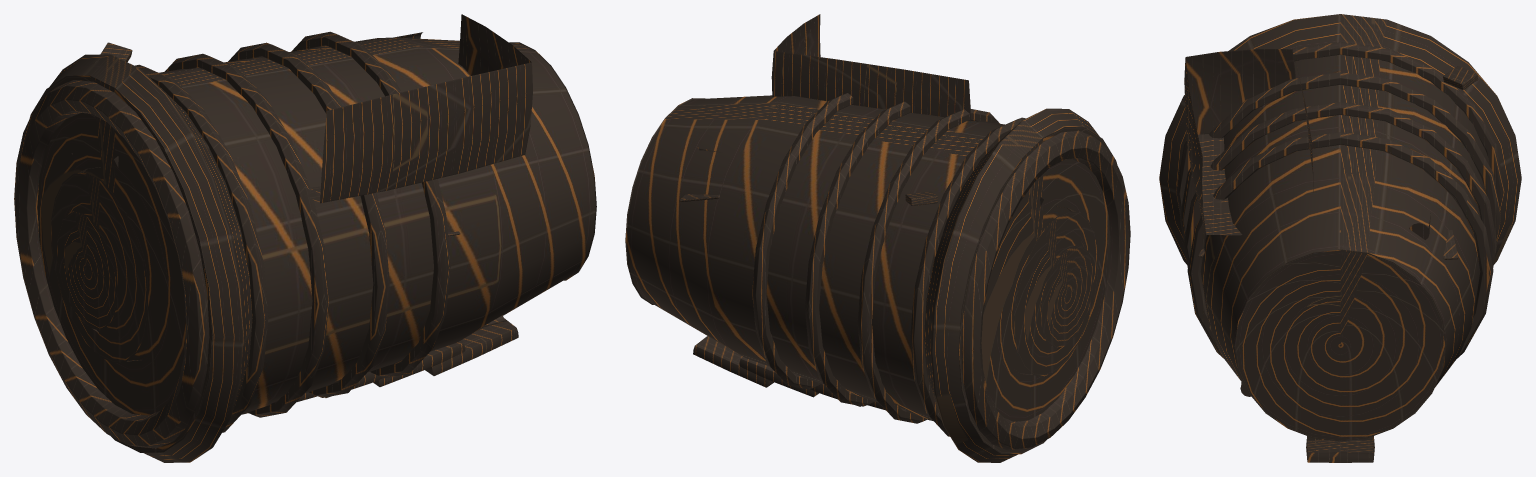
Rendered from engine_industrial.glb.
3 renders of one model, left to right at view 1: azimuth 30°, elevation 25°; view 2: azimuth 150°, elevation 25°; view 3: azimuth 270°, elevation 25°, orthographic. The views are drawn at different scales.
Visible parts, largest first — view 1: LOD0_ENGINE_INDUSTRIAL_MAIN, engine_industrial_Material_Mechanical_Merged, HOOK_DRIVE_CORE, HOOK_DRIVE_PLUME, engine_industrial_Material_Hull_Merged; view 2: LOD0_ENGINE_INDUSTRIAL_MAIN, engine_industrial_Material_Mechanical_Merged, HOOK_DRIVE_CORE, HOOK_DRIVE_PLUME, engine_industrial_Material_Hull_Merged; view 3: LOD0_ENGINE_INDUSTRIAL_MAIN, engine_industrial_Material_Mechanical_Merged, engine_industrial_Material_Hull_Merged, DET_cavity_grime_vent.
Boxes of the visible parts, left/top/right/bottom form: LOD0_ENGINE_INDUSTRIAL_MAIN: left=29, top=37, right=596, bottom=462; engine_industrial_Material_Mechanical_Merged: left=14, top=14, right=532, bottom=448; HOOK_DRIVE_CORE: left=51, top=167, right=147, bottom=362; HOOK_DRIVE_PLUME: left=57, top=207, right=116, bottom=332; engine_industrial_Material_Hull_Merged: left=242, top=319, right=518, bottom=414; LOD0_ENGINE_INDUSTRIAL_MAIN: left=625, top=95, right=1116, bottom=462; engine_industrial_Material_Mechanical_Merged: left=697, top=14, right=1130, bottom=450; HOOK_DRIVE_CORE: left=1014, top=206, right=1098, bottom=376; HOOK_DRIVE_PLUME: left=1041, top=241, right=1093, bottom=349; engine_industrial_Material_Hull_Merged: left=693, top=336, right=932, bottom=420; LOD0_ENGINE_INDUSTRIAL_MAIN: left=1159, top=14, right=1521, bottom=441; engine_industrial_Material_Mechanical_Merged: left=1176, top=42, right=1504, bottom=396; engine_industrial_Material_Hull_Merged: left=1306, top=436, right=1374, bottom=462; DET_cavity_grime_vent: left=1443, top=66, right=1478, bottom=89.
Bounding box in the file's own units: 3.52 × 2.9 × 2.87.
3 materials, 3 textured.
